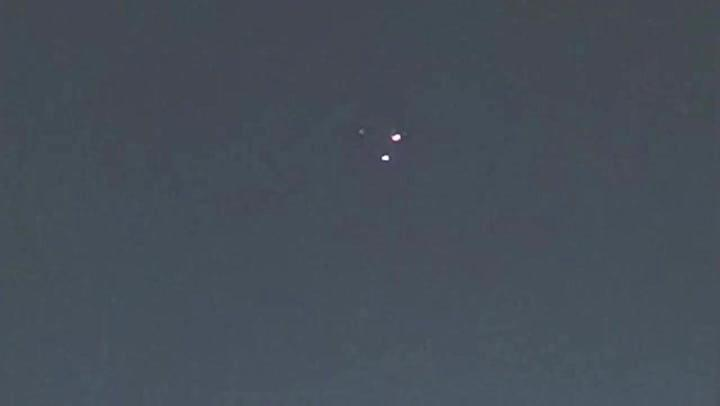Plane: (370, 119, 414, 175)
